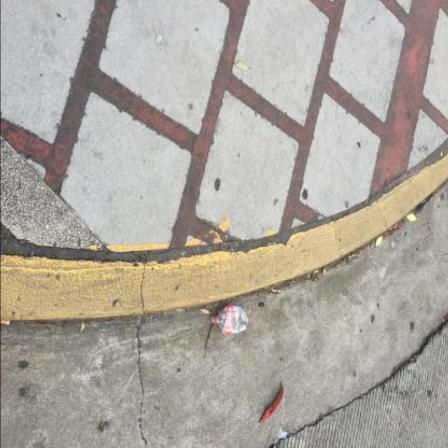Bottle: (210, 306, 249, 336)
Cigarette: (2, 321, 11, 326), (315, 272, 320, 275)
